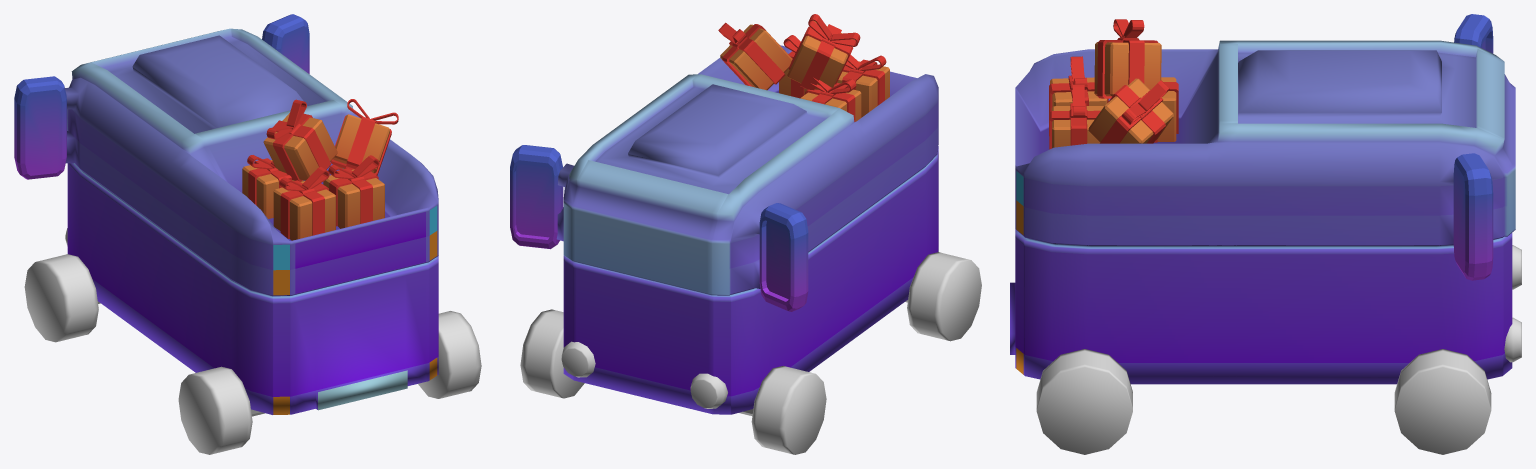
The model's file is машина 5 .fbx.
The picture shows the model from 3 angles, left to right: view 1: azimuth 30°, elevation 25°; view 2: azimuth 150°, elevation 25°; view 3: azimuth 270°, elevation 25°; orthographic projection. The views are drawn at different scales.
Visible parts, largest first — view 1: Cube.135, Cube.001, Cylinder.006, Cylinder.003, Cube.140, Cube.138, Cylinder.005, Cube.139, Cube.141, Cube.136; view 2: Cube.135, Cube.001, Cylinder.003, Cylinder.006, Cylinder.004, Cube.140, Cube.141, Cylinder.002, Cube.138, Cube.136, Cube.139; view 3: Cube.135, Cylinder.004, Cylinder.005, Cube.001, Cube.141, Cube.140, Cube.139, Cube.138, Cylinder.002, Cube.136.
Boxes of the visible parts, bbox=[...] form: Cube.135: bbox=[65, 28, 438, 414]; Cube.001: bbox=[14, 14, 309, 179]; Cylinder.006: bbox=[178, 366, 252, 454]; Cylinder.003: bbox=[24, 254, 98, 342]; Cube.140: bbox=[263, 99, 337, 181]; Cube.138: bbox=[273, 167, 335, 240]; Cylinder.005: bbox=[418, 311, 481, 398]; Cube.139: bbox=[323, 155, 384, 228]; Cube.141: bbox=[330, 99, 398, 175]; Cube.136: bbox=[242, 155, 303, 218]; Cube.135: bbox=[556, 45, 938, 414]; Cube.001: bbox=[510, 145, 808, 311]; Cylinder.003: bbox=[751, 366, 826, 454]; Cylinder.006: bbox=[907, 252, 981, 341]; Cylinder.004: bbox=[520, 309, 584, 398]; Cube.140: bbox=[787, 14, 860, 90]; Cube.141: bbox=[718, 22, 792, 90]; Cylinder.002: bbox=[561, 341, 727, 408]; Cube.138: bbox=[837, 54, 889, 117]; Cube.136: bbox=[800, 77, 861, 121]; Cube.139: bbox=[779, 35, 807, 98]; Cube.135: bbox=[1010, 40, 1515, 384]; Cylinder.004: bbox=[1394, 349, 1491, 454]; Cylinder.005: bbox=[1036, 349, 1132, 454]; Cube.001: bbox=[1453, 14, 1493, 280]; Cube.141: bbox=[1088, 78, 1173, 143]; Cube.140: bbox=[1094, 19, 1161, 98]; Cube.139: bbox=[1049, 84, 1103, 149]; Cube.138: bbox=[1049, 56, 1108, 135]; Cylinder.002: bbox=[1504, 245, 1521, 362]; Cube.136: bbox=[1154, 77, 1178, 142].
Bounding box in the file's own units: 299 × 300 × 391.
